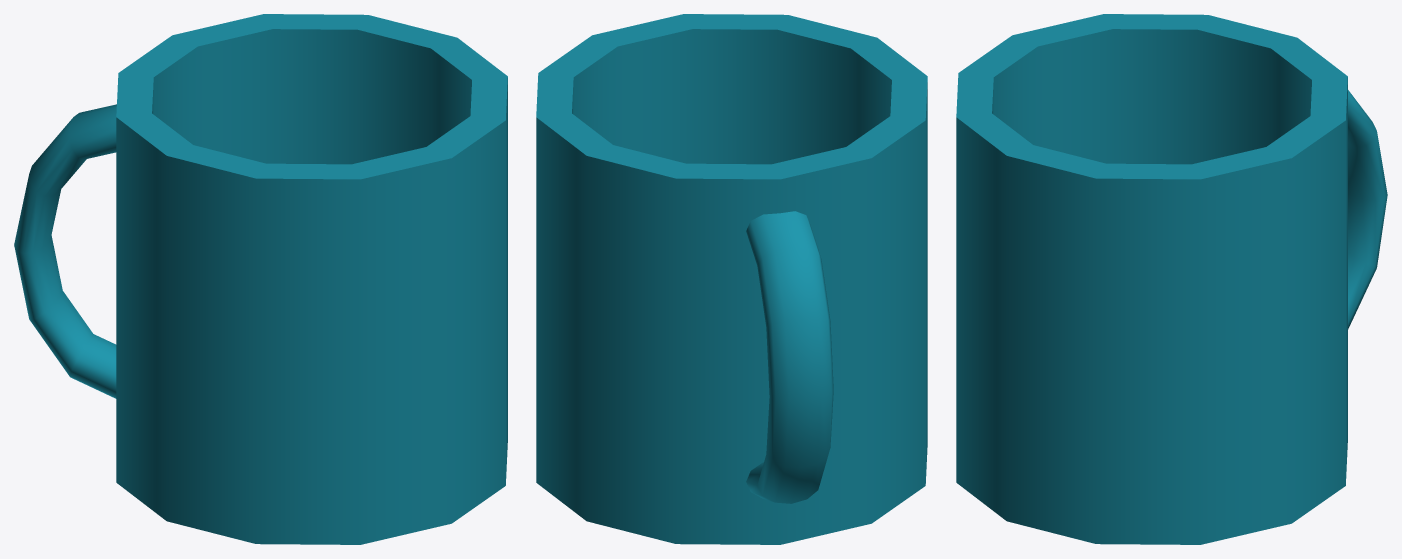
File: MugGeo.fbx
The picture shows the model from 3 angles, left to right: view 1: azimuth 30°, elevation 25°; view 2: azimuth 150°, elevation 25°; view 3: azimuth 270°, elevation 25°; orthographic projection.
Visible parts, largest first — view 1: MugGeo; view 2: MugGeo; view 3: MugGeo.
Boxes of the visible parts, <box> form: MugGeo: <box>14,14,507,544</box>; MugGeo: <box>536,14,927,544</box>; MugGeo: <box>956,14,1387,544</box>.
Size of the model in its own units: 36.83 by 35.05 by 37.49.
